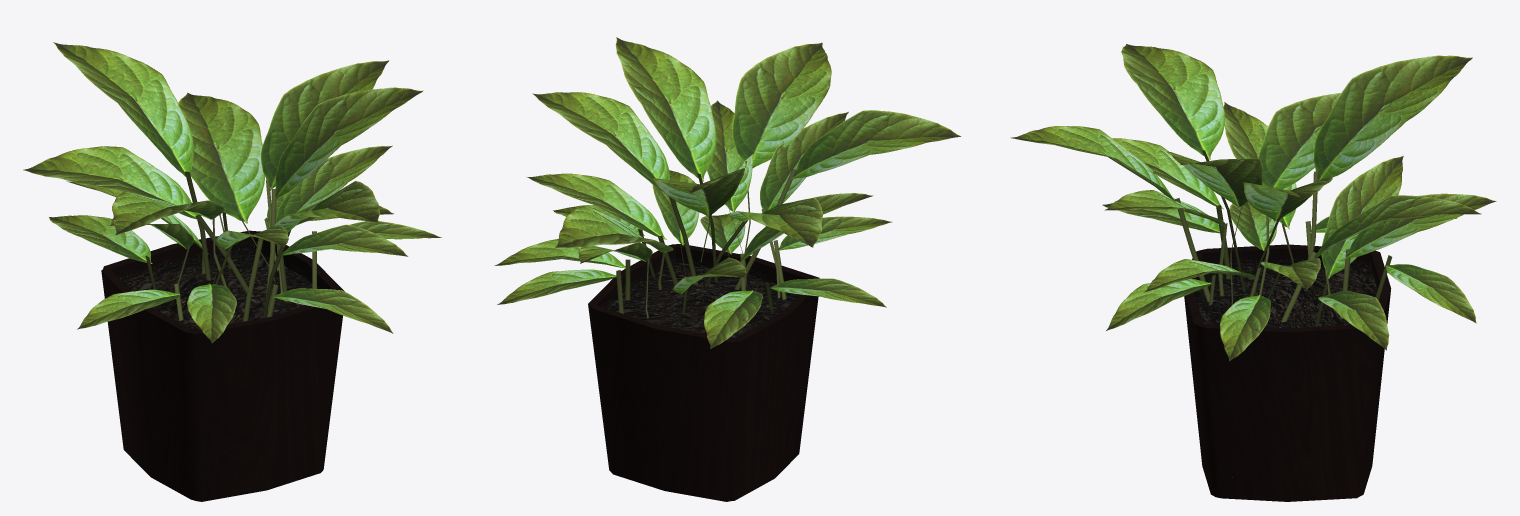
The model's file is PottedPlant.fbx.
3 renders of one model, left to right at view 1: azimuth 30°, elevation 25°; view 2: azimuth 150°, elevation 25°; view 3: azimuth 270°, elevation 25°, orthographic. The views are drawn at different scales.
Parts seen in each view (by area): view 1: Planter, pPlane43, pPlane45, pPlane35, pPlane41, pPlane33, pPlane31, pPlane39, pPlane37, pPlane11, pPlane17, pPlane15 (+7 smaller); view 2: Planter, pPlane37, pPlane35, pPlane39, pPlane33, pPlane31, pPlane43, pPlane23, pPlane41, pPlane21, pPlane45, pPlane11 (+9 smaller); view 3: Planter, pPlane45, pPlane39, pPlane41, pPlane27, pPlane37, pPlane43, pPlane29, pPlane35, pPlane9, pPlane5, pPlane23 (+9 smaller).
Boxes of the visible parts, bbox=[...] form: Planter: bbox=[101, 230, 344, 501]; pPlane43: bbox=[178, 92, 264, 223]; pPlane45: bbox=[53, 42, 193, 177]; pPlane35: bbox=[274, 87, 423, 200]; pPlane41: bbox=[23, 146, 198, 219]; pPlane33: bbox=[261, 60, 389, 190]; pPlane31: bbox=[276, 145, 392, 222]; pPlane39: bbox=[112, 191, 224, 235]; pPlane37: bbox=[272, 181, 379, 232]; pPlane11: bbox=[49, 215, 152, 263]; pPlane17: bbox=[282, 224, 408, 256]; pPlane15: bbox=[187, 283, 236, 343]; Planter: bbox=[588, 244, 819, 501]; pPlane37: bbox=[732, 42, 831, 168]; pPlane35: bbox=[615, 37, 716, 181]; pPlane39: bbox=[791, 110, 961, 179]; pPlane33: bbox=[532, 92, 670, 192]; pPlane31: bbox=[527, 173, 666, 239]; pPlane43: bbox=[555, 205, 673, 252]; pPlane23: bbox=[760, 111, 848, 212]; pPlane41: bbox=[727, 197, 822, 247]; pPlane21: bbox=[707, 100, 753, 212]; pPlane45: bbox=[651, 168, 744, 216]; pPlane11: bbox=[704, 290, 762, 348]; Planter: bbox=[1184, 244, 1391, 501]; pPlane45: bbox=[1314, 55, 1472, 180]; pPlane39: bbox=[1121, 44, 1224, 159]; pPlane41: bbox=[1257, 93, 1340, 189]; pPlane27: bbox=[1321, 155, 1403, 278]; pPlane37: bbox=[1010, 126, 1175, 201]; pPlane43: bbox=[1314, 195, 1481, 258]; pPlane29: bbox=[1344, 193, 1496, 259]; pPlane35: bbox=[1166, 151, 1262, 207]; pPlane9: bbox=[1385, 264, 1476, 323]; pPlane5: bbox=[1220, 295, 1270, 361]; pPlane23: bbox=[1112, 138, 1223, 209].
Bounding box in the file's own units: 1.08 × 0.9794 × 1.15.
